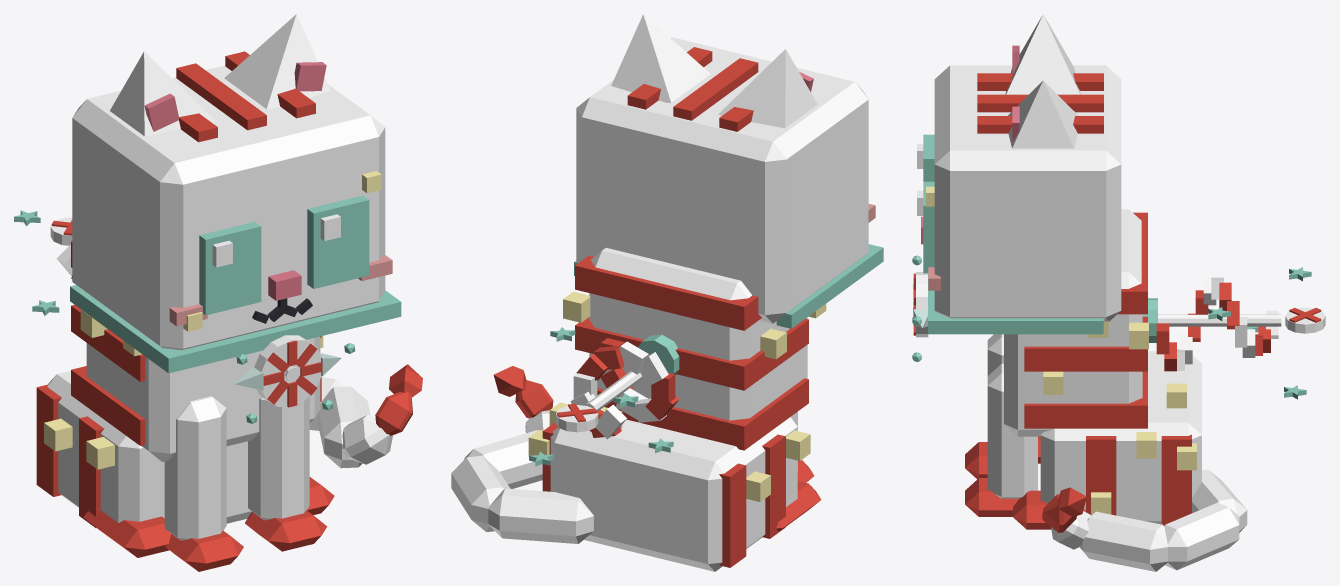
File: CatCafe_Cat_PeppermintSwirl_Sit.glb
3 views of the same model, side by side, from view 1: azimuth 30°, elevation 25°; view 2: azimuth 150°, elevation 25°; view 3: azimuth 270°, elevation 25° (orthographic). The views are drawn at different scales.
Parts seen in each view (by area): view 1: CatCafe_Cat_PeppermintSwirl_Sit_Head, CatCafe_Cat_PeppermintSwirl_Sit_Body, CatCafe_Cat_PeppermintSwirl_Sit_Prop, CatCafe_Cat_PeppermintSwirl_Sit_LegF2, CatCafe_Cat_PeppermintSwirl_Sit_LegF1, CatCafe_Cat_PeppermintSwirl_Sit_Tail, CatCafe_Cat_PeppermintSwirl_Sit_EarL, CatCafe_Cat_PeppermintSwirl_Sit_Eye1, CatCafe_Cat_PeppermintSwirl_Sit_Eye2, CatCafe_Cat_PeppermintSwirl_Sit_EarR, CatCafe_Cat_PeppermintSwirl_Sit_Prop2, CatCafe_Cat_PeppermintSwirl_Sit_Prop_Glass (+1 smaller); view 2: CatCafe_Cat_PeppermintSwirl_Sit_Body, CatCafe_Cat_PeppermintSwirl_Sit_Head, CatCafe_Cat_PeppermintSwirl_Sit_Tail, CatCafe_Cat_PeppermintSwirl_Sit_Prop2, CatCafe_Cat_PeppermintSwirl_Sit_EarL, CatCafe_Cat_PeppermintSwirl_Sit_EarR, CatCafe_Cat_PeppermintSwirl_Sit_Prop, CatCafe_Cat_PeppermintSwirl_Sit_Sparkle_Glow; view 3: CatCafe_Cat_PeppermintSwirl_Sit_Head, CatCafe_Cat_PeppermintSwirl_Sit_Body, CatCafe_Cat_PeppermintSwirl_Sit_Tail, CatCafe_Cat_PeppermintSwirl_Sit_Prop2, CatCafe_Cat_PeppermintSwirl_Sit_LegF1, CatCafe_Cat_PeppermintSwirl_Sit_Prop, CatCafe_Cat_PeppermintSwirl_Sit_EarL, CatCafe_Cat_PeppermintSwirl_Sit_EarR, CatCafe_Cat_PeppermintSwirl_Sit_LegF2, CatCafe_Cat_PeppermintSwirl_Sit_Eye1, CatCafe_Cat_PeppermintSwirl_Sit_Eye2, CatCafe_Cat_PeppermintSwirl_Sit_Sparkle_Glow.
Part boxes in pixels (x1,y1,x2,y2): CatCafe_Cat_PeppermintSwirl_Sit_Head: (72,51,392,350); CatCafe_Cat_PeppermintSwirl_Sit_Body: (36,241,334,557); CatCafe_Cat_PeppermintSwirl_Sit_Prop: (70,285,401,407); CatCafe_Cat_PeppermintSwirl_Sit_LegF2: (164,396,243,571); CatCafe_Cat_PeppermintSwirl_Sit_LegF1: (245,396,327,551); CatCafe_Cat_PeppermintSwirl_Sit_Tail: (309,364,422,468); CatCafe_Cat_PeppermintSwirl_Sit_EarL: (224,14,330,109); CatCafe_Cat_PeppermintSwirl_Sit_Eye1: (307,195,369,288); CatCafe_Cat_PeppermintSwirl_Sit_Eye2: (199,222,261,315); CatCafe_Cat_PeppermintSwirl_Sit_EarR: (110,51,216,136); CatCafe_Cat_PeppermintSwirl_Sit_Prop2: (50,217,72,278); CatCafe_Cat_PeppermintSwirl_Sit_Prop_Glass: (234,353,341,390); CatCafe_Cat_PeppermintSwirl_Sit_Body: (528,247,826,571); CatCafe_Cat_PeppermintSwirl_Sit_Head: (576,37,875,323); CatCafe_Cat_PeppermintSwirl_Sit_Tail: (451,366,593,543); CatCafe_Cat_PeppermintSwirl_Sit_Prop2: (556,334,679,439); CatCafe_Cat_PeppermintSwirl_Sit_EarL: (611,14,710,102); CatCafe_Cat_PeppermintSwirl_Sit_EarR: (718,49,817,128); CatCafe_Cat_PeppermintSwirl_Sit_Prop: (574,244,883,328); CatCafe_Cat_PeppermintSwirl_Sit_Sparkle_Glow: (529,327,673,466); CatCafe_Cat_PeppermintSwirl_Sit_Head: (921,65,1121,321); CatCafe_Cat_PeppermintSwirl_Sit_Body: (1004,209,1201,529); CatCafe_Cat_PeppermintSwirl_Sit_Tail: (1042,469,1247,571); CatCafe_Cat_PeppermintSwirl_Sit_Prop2: (1142,276,1325,371); CatCafe_Cat_PeppermintSwirl_Sit_LegF1: (965,363,1037,516); CatCafe_Cat_PeppermintSwirl_Sit_Prop: (913,272,1103,337); CatCafe_Cat_PeppermintSwirl_Sit_EarL: (1008,80,1078,148); CatCafe_Cat_PeppermintSwirl_Sit_EarR: (1005,14,1080,94); CatCafe_Cat_PeppermintSwirl_Sit_LegF2: (965,334,1003,479); CatCafe_Cat_PeppermintSwirl_Sit_Eye1: (917,181,934,273); CatCafe_Cat_PeppermintSwirl_Sit_Eye2: (917,134,934,181); CatCafe_Cat_PeppermintSwirl_Sit_Sparkle_Glow: (1208,267,1311,399).
Bounding box in the file's own units: 1.29 × 1.85 × 1.56.
1 material, 1 textured.
